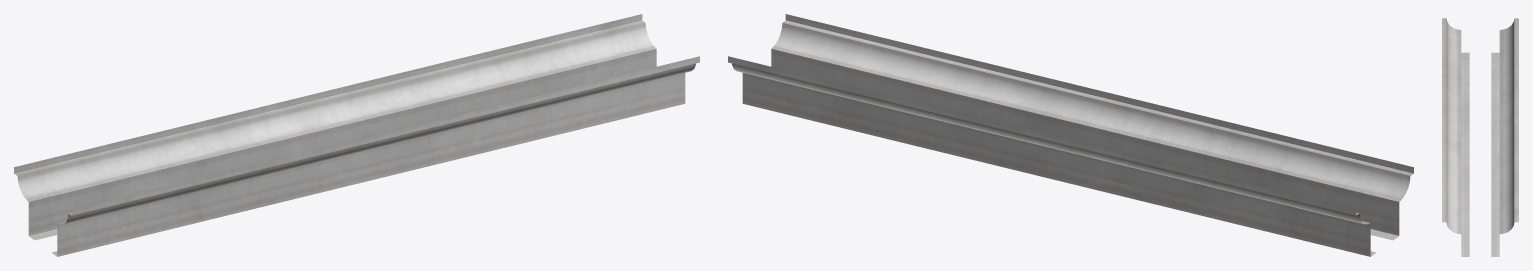
Rendered from Plinths_03.fbx.
The picture shows the model from 3 angles, left to right: view 1: azimuth 30°, elevation 25°; view 2: azimuth 150°, elevation 25°; view 3: azimuth 270°, elevation 25°; orthographic projection. The views are drawn at different scales.
Parts seen in each view (by area): view 1: Plinths_03; view 2: Plinths_03; view 3: Plinths_03.
Part boxes in pixels (x1,y1,x2,y2): Plinths_03: (14,14,699,256); Plinths_03: (728,14,1413,256); Plinths_03: (1442,18,1518,256).
Size of the model in its own units: 200 by 17.69 by 31.81.
